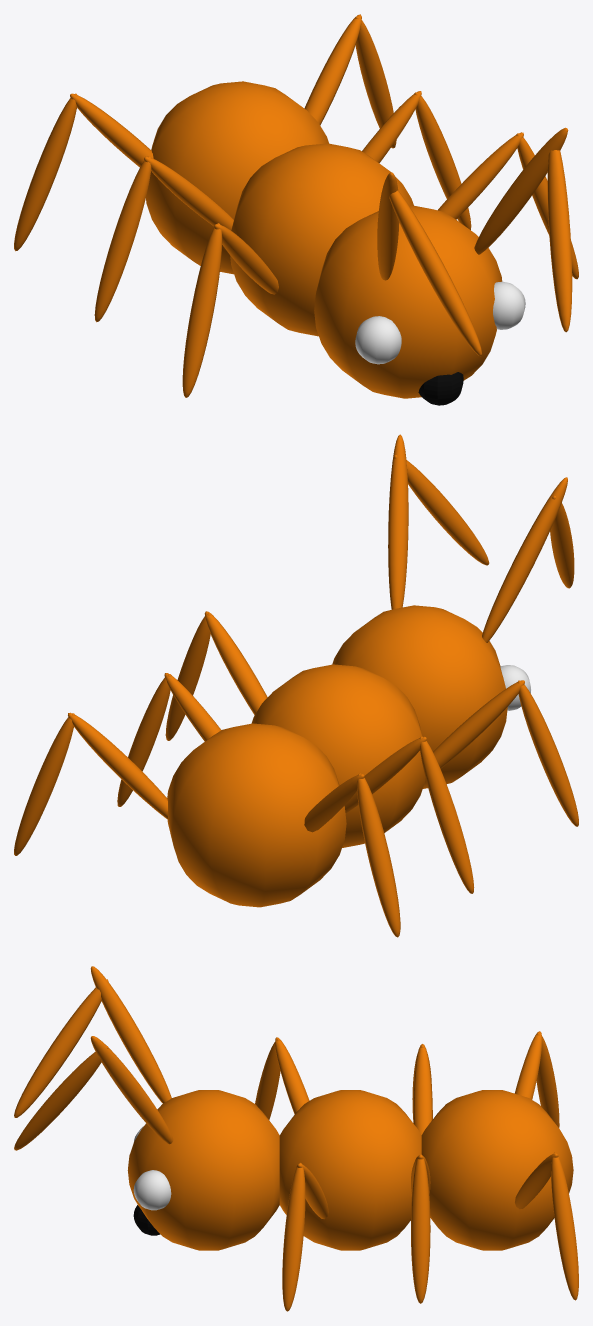
The model's file is Ant.fbx.
3 views of the same model, one above another, from view 1: azimuth 30°, elevation 25°; view 2: azimuth 150°, elevation 25°; view 3: azimuth 270°, elevation 25° (orthographic). The views are drawn at different scales.
Visible parts, largest first — view 1: Sphere.003; view 2: Sphere.003; view 3: Sphere.003.
Part boxes in pixels (bbox=[...]): Sphere.003: bbox=[14, 14, 578, 405]; Sphere.003: bbox=[14, 434, 578, 937]; Sphere.003: bbox=[14, 966, 578, 1311].
Size of the model in its own units: 493 by 332 by 697.
